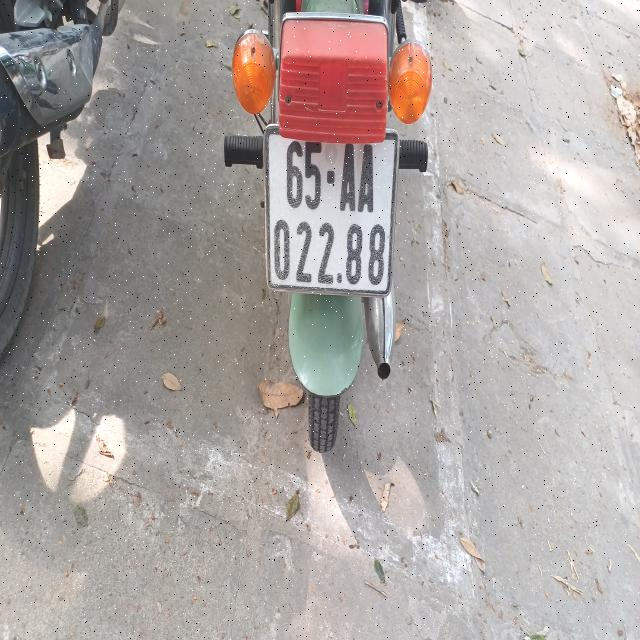0: (273, 217, 291, 280)
2: (317, 219, 336, 286), (296, 216, 312, 281)
5: (304, 136, 320, 210)
6: (285, 140, 304, 210)
8: (368, 222, 388, 283), (345, 220, 363, 284)
A: (357, 141, 375, 211), (340, 139, 355, 213)
